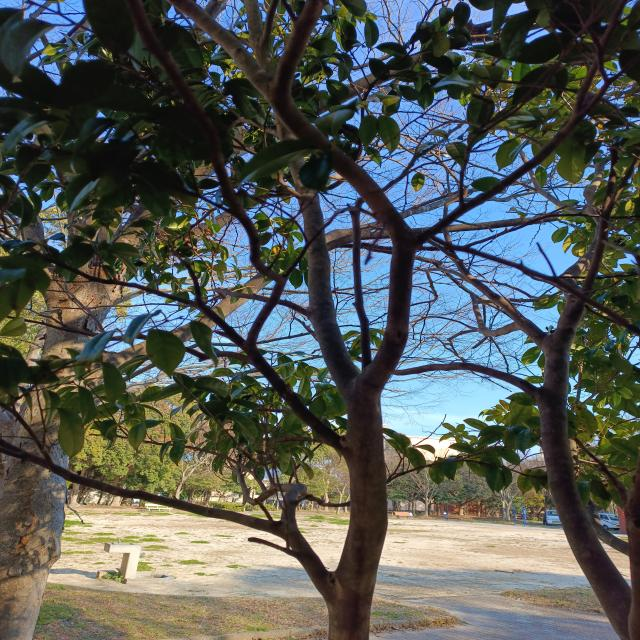Branch: (171, 0, 416, 389), (36, 251, 344, 447), (0, 438, 329, 595), (272, 119, 361, 397), (442, 184, 547, 352), (337, 375, 387, 602), (557, 221, 600, 344), (393, 362, 539, 397)
Twig: (129, 0, 289, 347), (240, 461, 305, 518), (217, 288, 307, 318)
